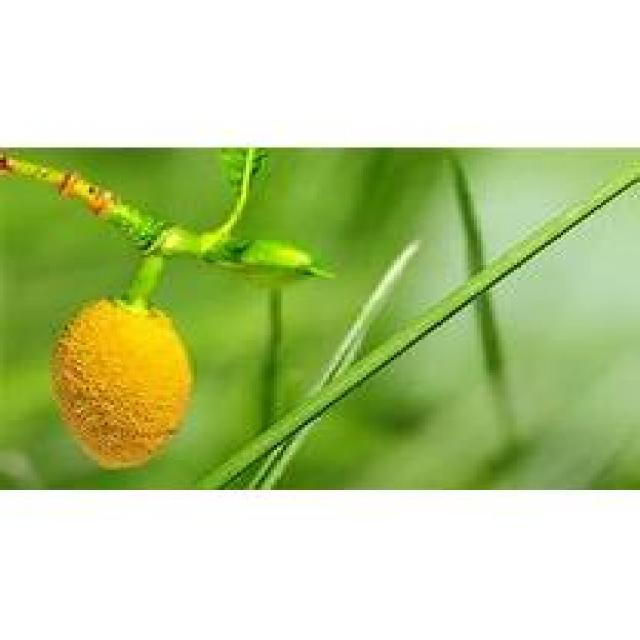Fruit: (37, 282, 209, 478)
